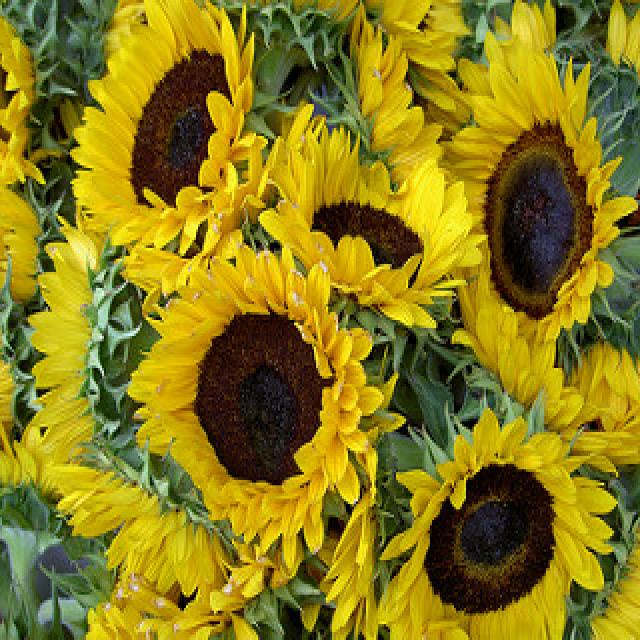sunflower: (137, 251, 405, 565), (438, 49, 640, 385), (359, 402, 619, 640), (71, 0, 261, 280), (250, 121, 492, 340)
